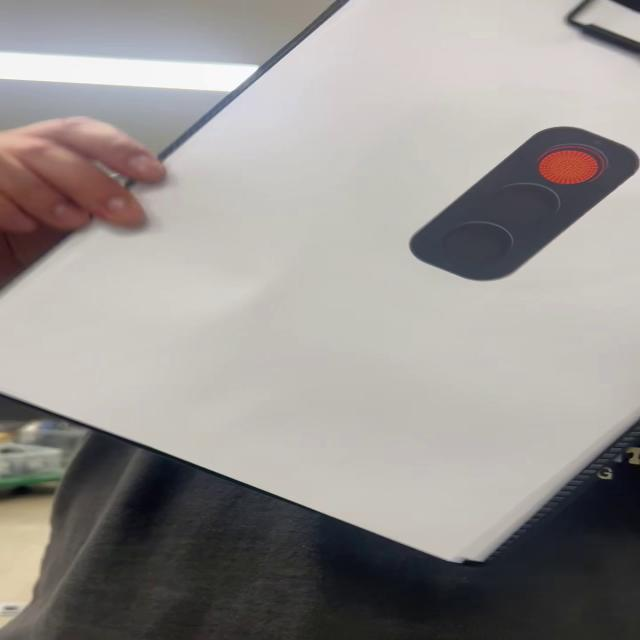red: (403, 128, 640, 281)
